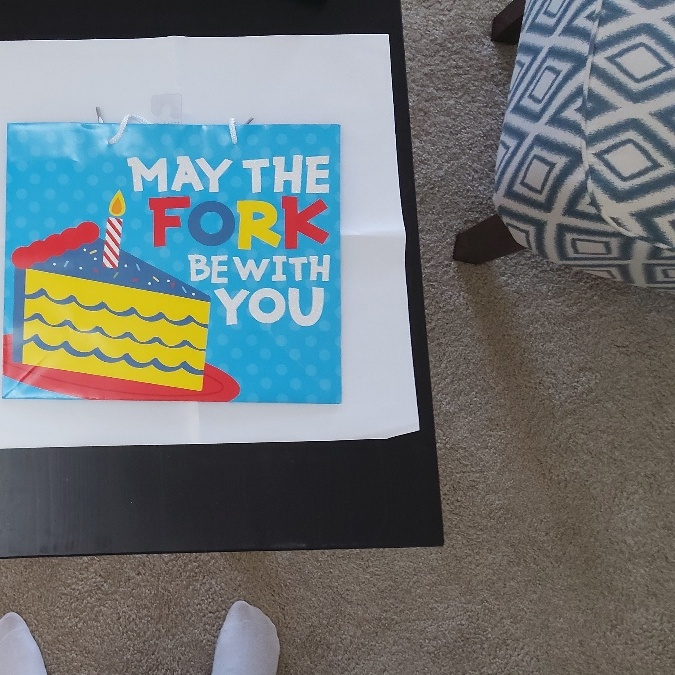paper_bag: (8, 124, 339, 404)
